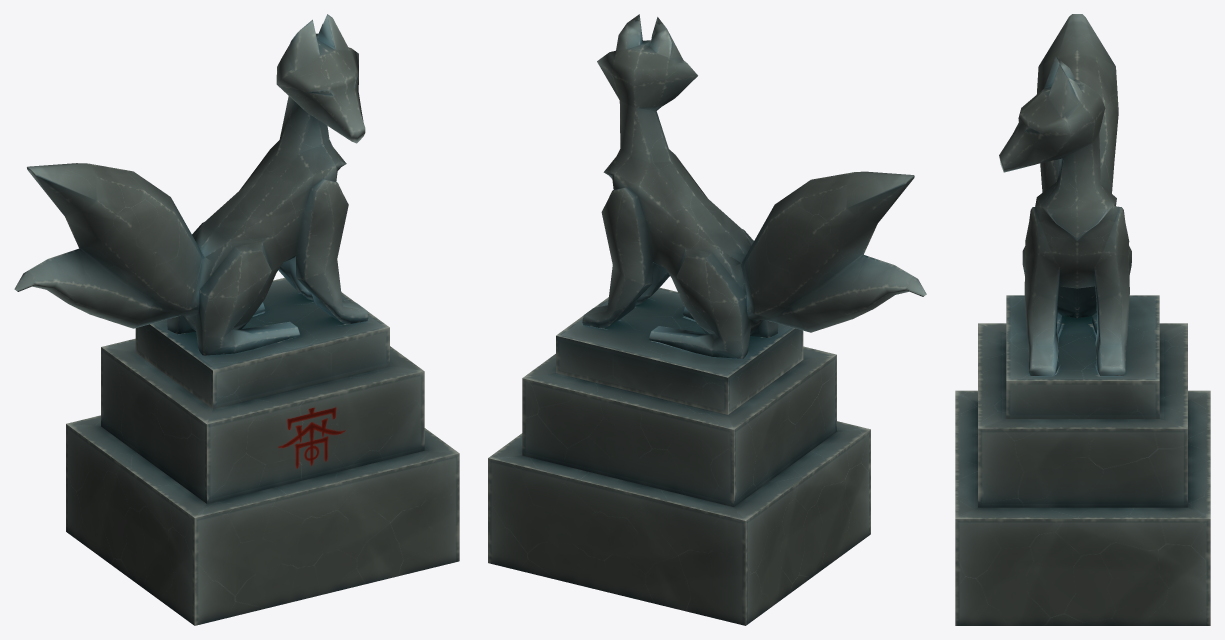
Rendered from foxright.fbx.
3 views of the same model, side by side, from view 1: azimuth 30°, elevation 25°; view 2: azimuth 150°, elevation 25°; view 3: azimuth 270°, elevation 25° (orthographic). The views are drawn at different scales.
Visible parts, largest first — view 1: foxright_low; view 2: foxright_low; view 3: foxright_low.
Boxes of the visible parts, <box> form: foxright_low: <box>14,14,459,625</box>; foxright_low: <box>488,14,926,625</box>; foxright_low: <box>955,14,1210,625</box>.
Size of the model in its own units: 77.64 by 102 by 45.09.
1 material, 1 textured.
